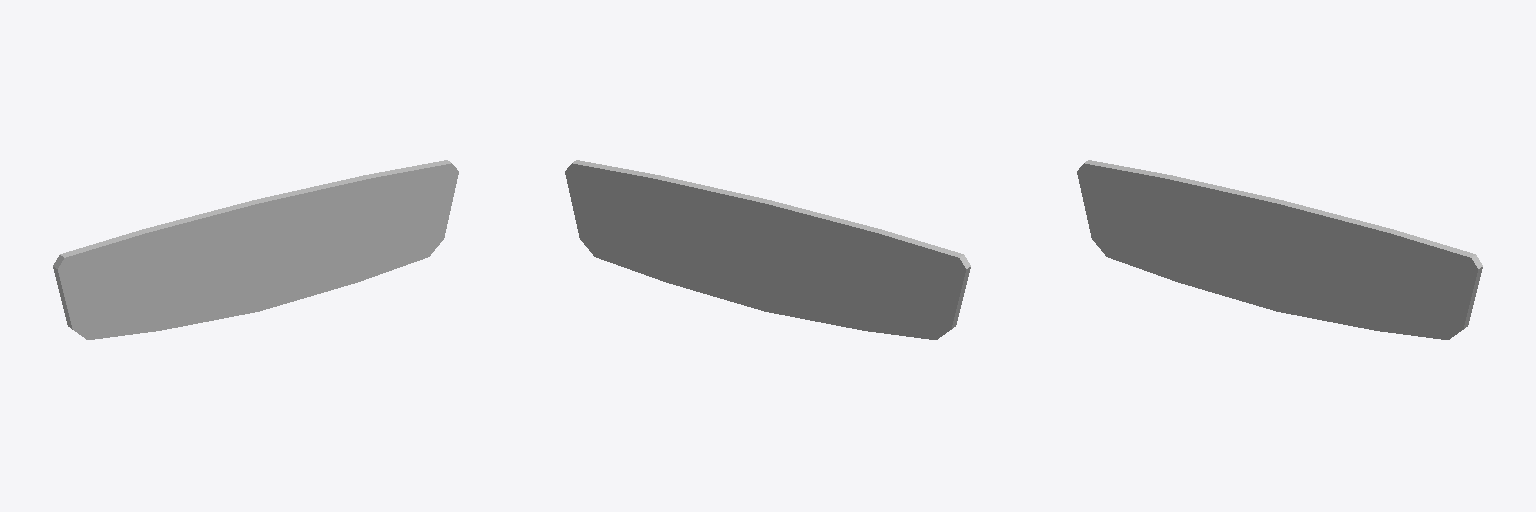
Rendered from backmirror90.obj.
3 views of the same model, side by side, from view 1: azimuth 30°, elevation 25°; view 2: azimuth 150°, elevation 25°; view 3: azimuth 330°, elevation 25° (orthographic).
Parts seen in each view (by area): view 1: body; view 2: body; view 3: body.
Part boxes in pixels (x1,y1,x2,y2): body: (53,160,458,339); body: (565,160,970,339); body: (1077,160,1482,339).
Bounding box in the file's own units: 4.85 × 1.25 × 0.1.